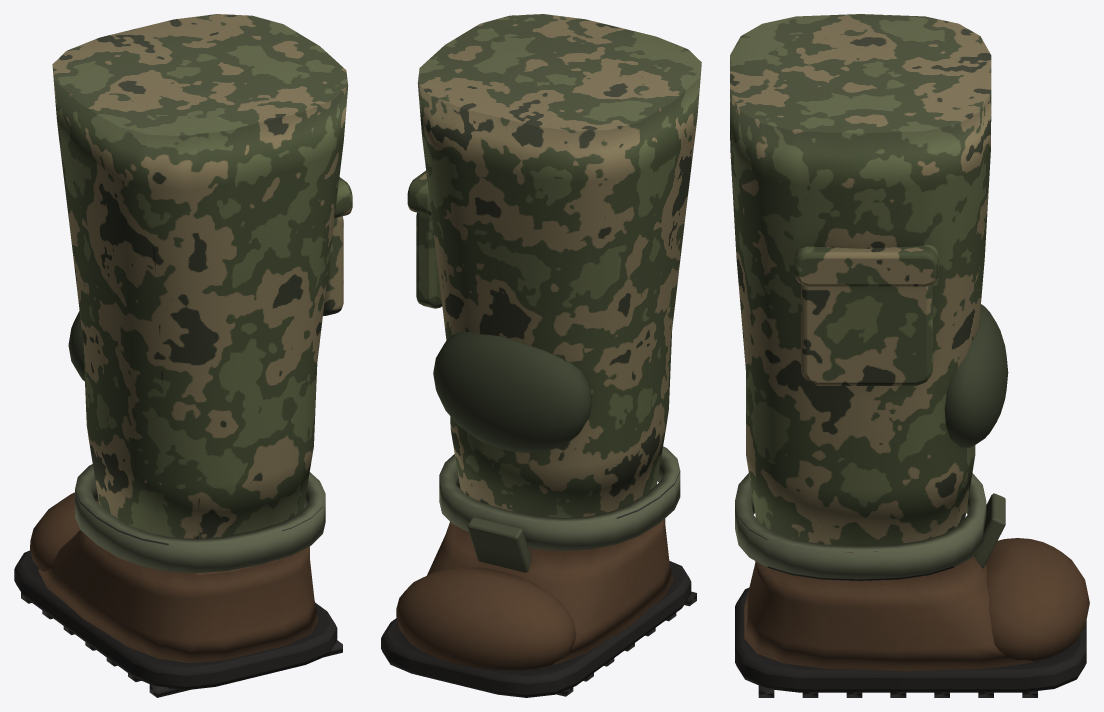
File: Alpha_Leg.fbx
3 renders of one model, left to right at view 1: azimuth 30°, elevation 25°; view 2: azimuth 150°, elevation 25°; view 3: azimuth 270°, elevation 25°, orthographic. The views are drawn at different scales.
Visible parts, largest first — view 1: Alpha_Leg_body; view 2: Alpha_Leg_body; view 3: Alpha_Leg_body.
Part boxes in pixels (bbox=[...]): Alpha_Leg_body: bbox=[14, 14, 352, 697]; Alpha_Leg_body: bbox=[381, 14, 701, 697]; Alpha_Leg_body: bbox=[730, 14, 1089, 697].
Size of the model in its own units: 91 by 203 by 115.
Materials: 1 (1 with a texture image).
